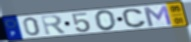0: (22, 17, 43, 37)
5: (70, 12, 92, 33)
C: (121, 8, 148, 28)
M: (141, 4, 174, 28)
O: (93, 9, 118, 32)
R: (40, 14, 68, 37)
